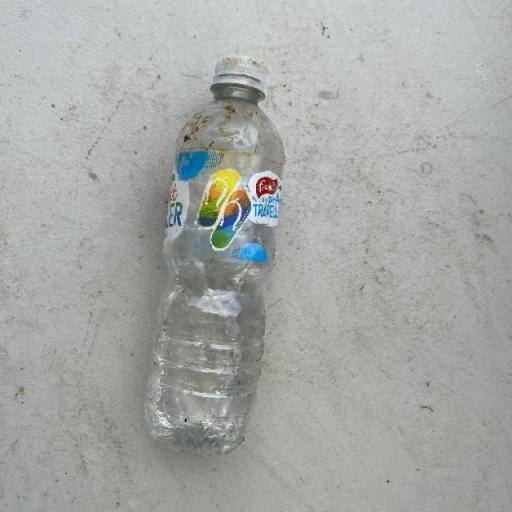plastic: (142, 54, 286, 455)
